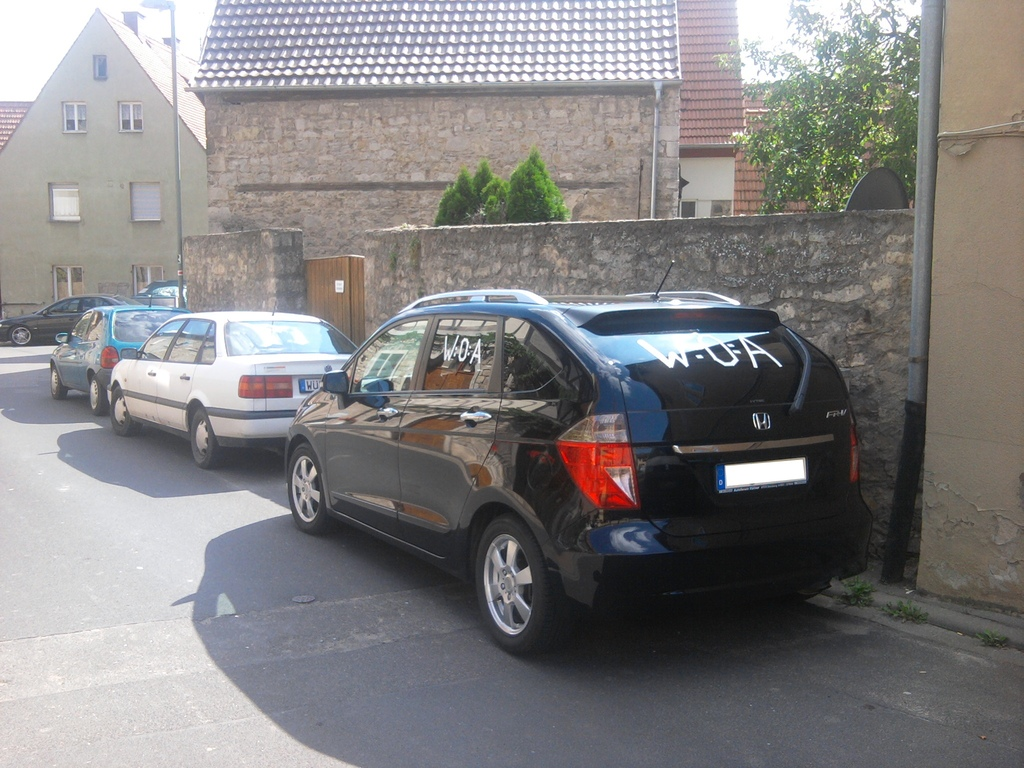Car: (283, 259, 872, 656), (105, 300, 361, 473), (45, 302, 195, 419), (0, 293, 144, 348)
